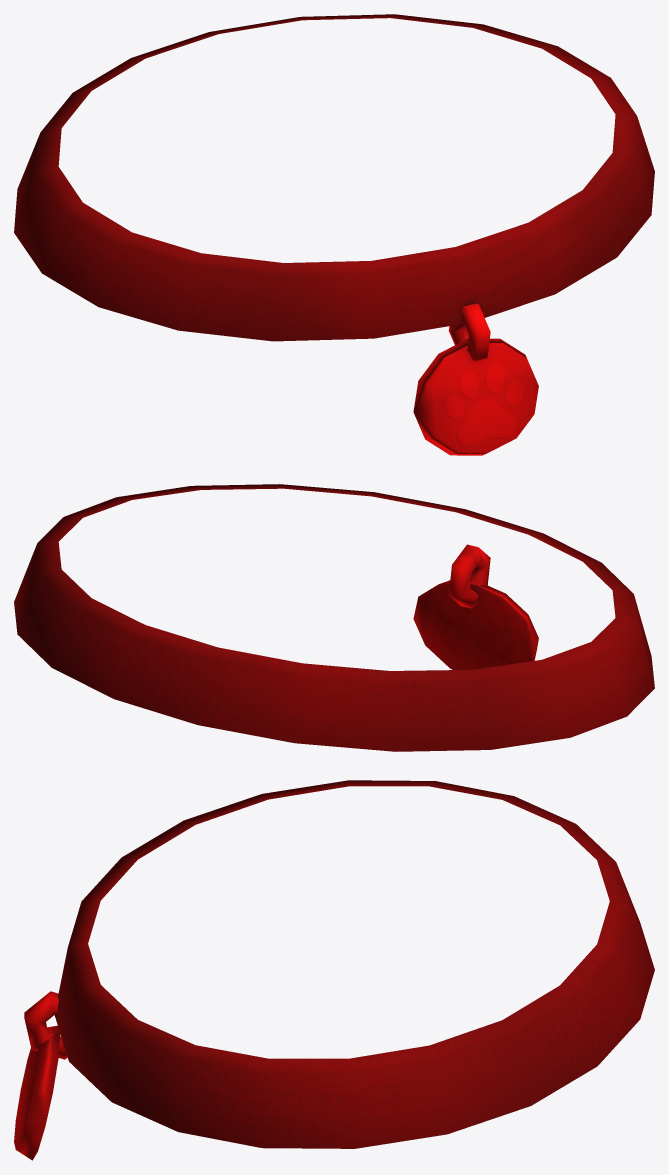
Rendered from M_CollarC.glb.
3 views of the same model, one above another, from view 1: azimuth 30°, elevation 25°; view 2: azimuth 150°, elevation 25°; view 3: azimuth 270°, elevation 25° (orthographic). The views are drawn at different scales.
Parts seen in each view (by area): view 1: SM_Collar; view 2: SM_Collar; view 3: SM_Collar.
Part boxes in pixels (x1=…): SM_Collar: x1=14, y1=14, x2=654, y2=455; SM_Collar: x1=14, y1=484, x2=654, y2=751; SM_Collar: x1=14, y1=780, x2=654, y2=1160.
Bounding box in the file's own units: 0.3723 × 0.1389 × 0.3218.
Materials: 1 (1 with a texture image).
